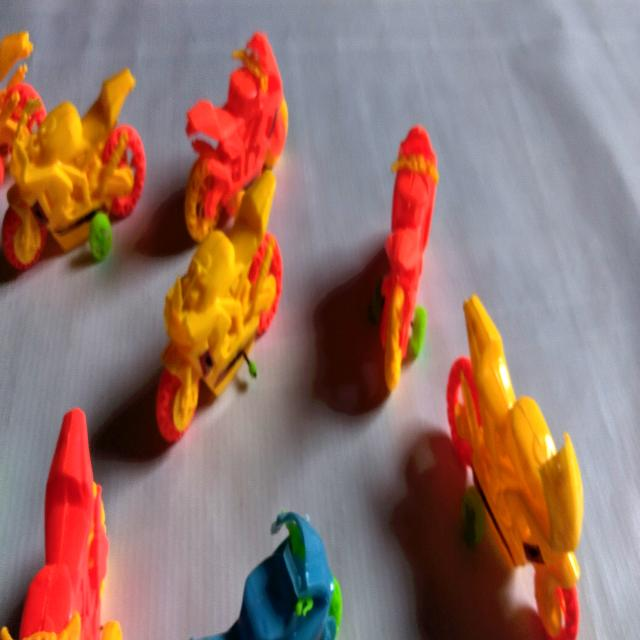bikes: (448, 296, 583, 637), (157, 170, 282, 439), (0, 70, 145, 266), (186, 33, 288, 240), (20, 409, 109, 640), (209, 512, 342, 640), (380, 126, 438, 387)
